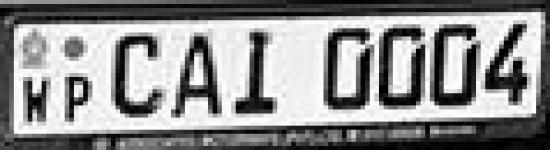0: (312, 23, 374, 117), (430, 20, 482, 112), (377, 24, 429, 115)
4: (484, 18, 534, 113)
A: (170, 32, 228, 125)
I: (229, 28, 292, 120)
P: (106, 29, 169, 122), (60, 70, 99, 126)
W: (16, 74, 58, 131)
